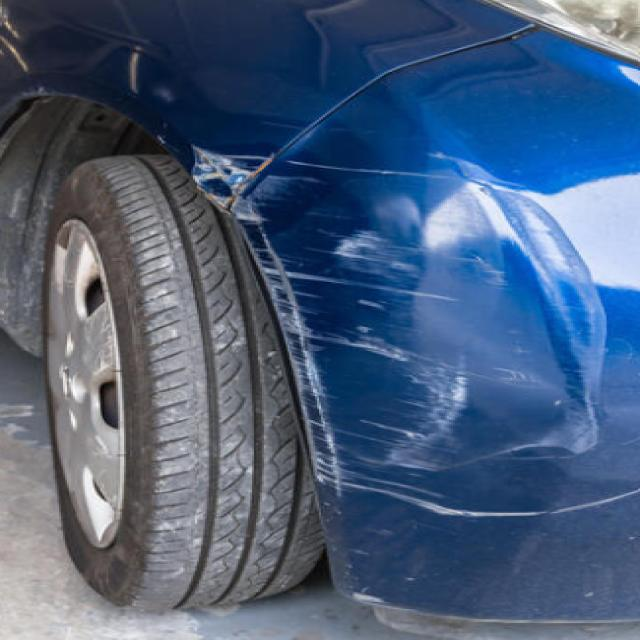scratch: (201, 134, 640, 292), (220, 293, 640, 451), (236, 452, 640, 538)
